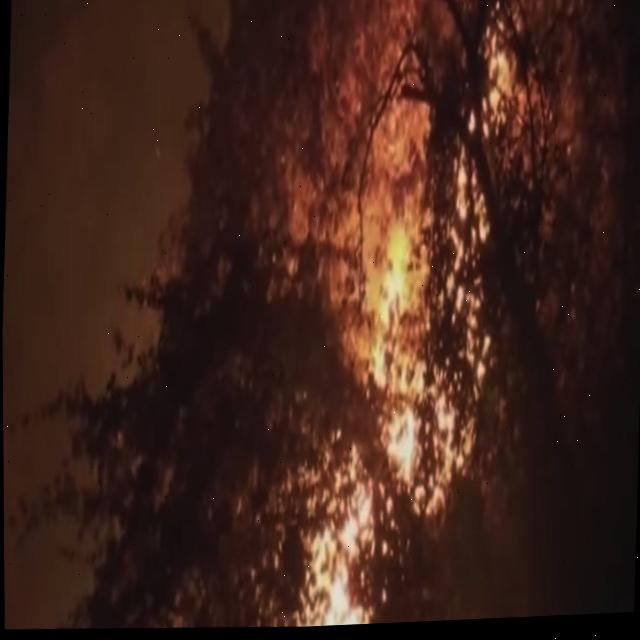fire: (362, 228, 421, 404), (298, 523, 359, 629)
smoke: (2, 0, 174, 361)
